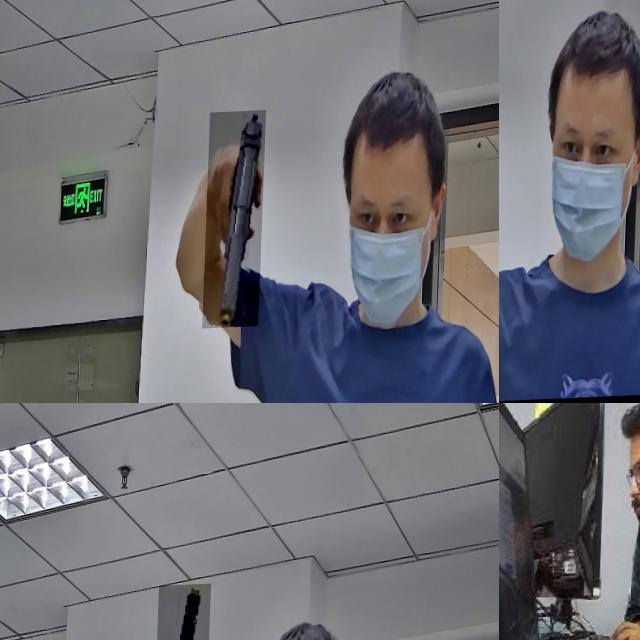gun-knife-thesis - v11 Yolov5 augmented: (206, 113, 269, 331), (499, 0, 550, 190), (154, 587, 212, 640)
